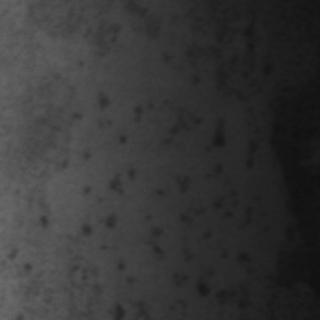pitted_surface: (47, 7, 253, 306)
